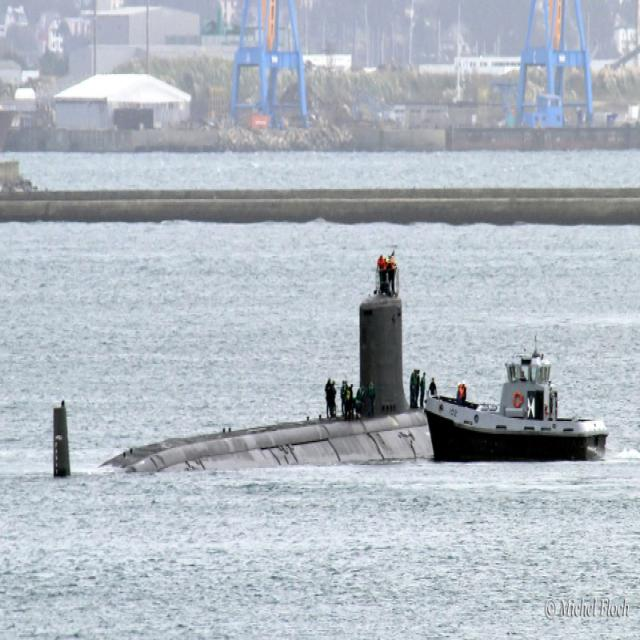submarine: (52, 296, 448, 488)
